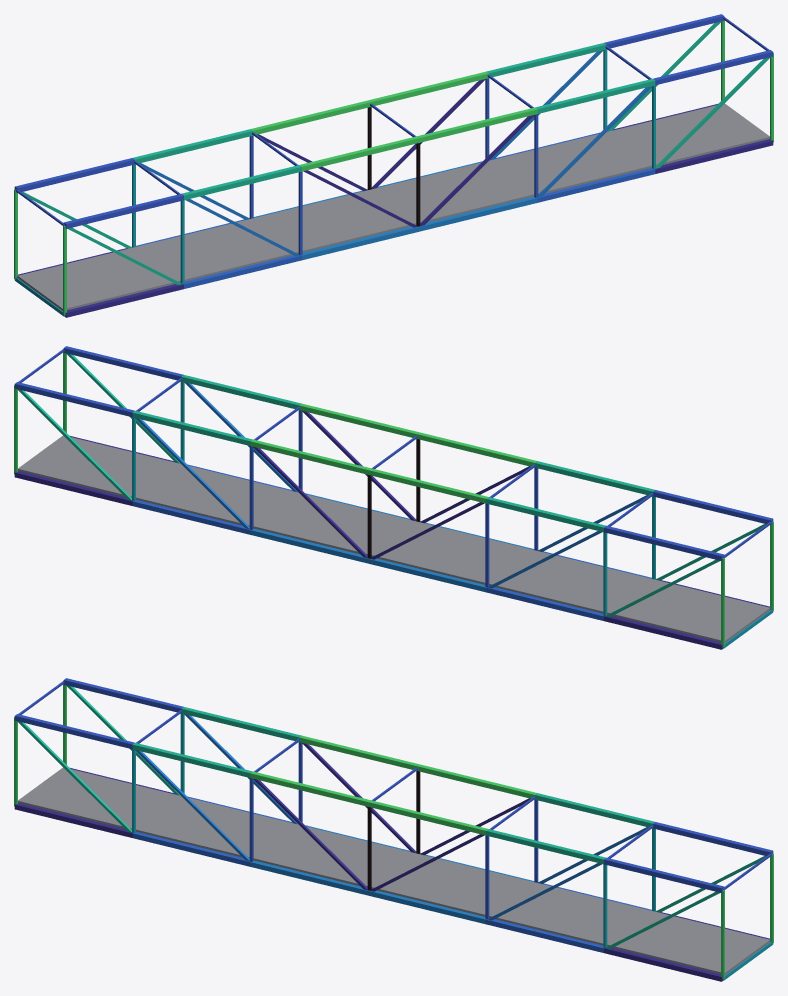
Rendered from 25_3_6_HEA200.glb.
3 views of the same model, one above another, from view 1: azimuth 30°, elevation 25°; view 2: azimuth 150°, elevation 25°; view 3: azimuth 330°, elevation 25° (orthographic).
Bounding box in the file's own units: 25.09 × 3.16 × 3.16.
